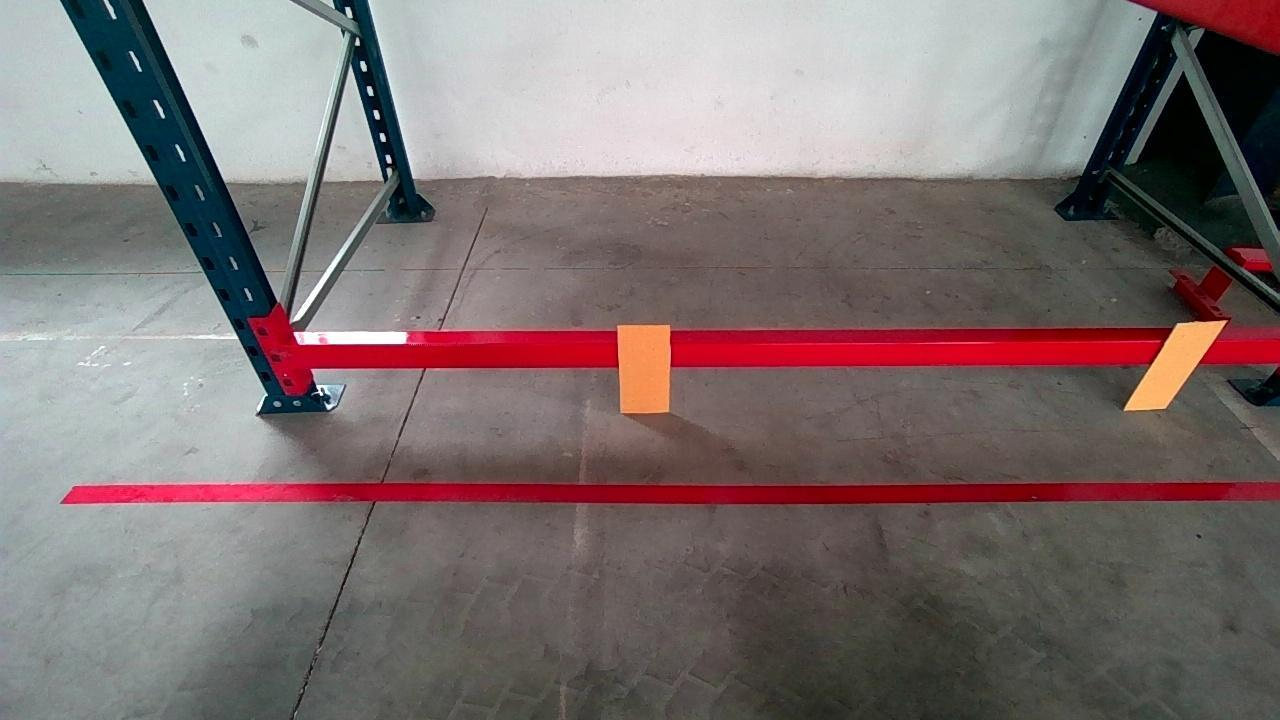h_rack: (293, 320, 1272, 374)
orange_strip: (1124, 321, 1224, 410), (618, 323, 672, 413)
red_line: (72, 468, 1268, 516)
